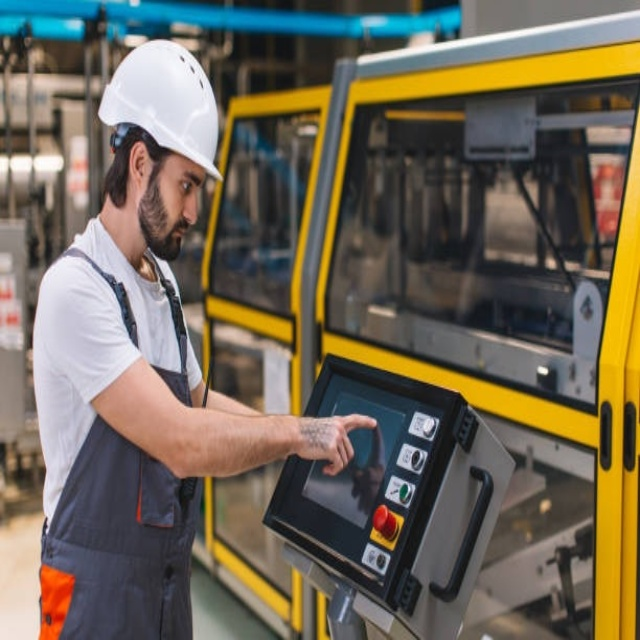Sin_gafas: (159, 169, 207, 196)
Sin_guantes: (301, 412, 377, 475)
Sin_mascara: (159, 220, 192, 253)
